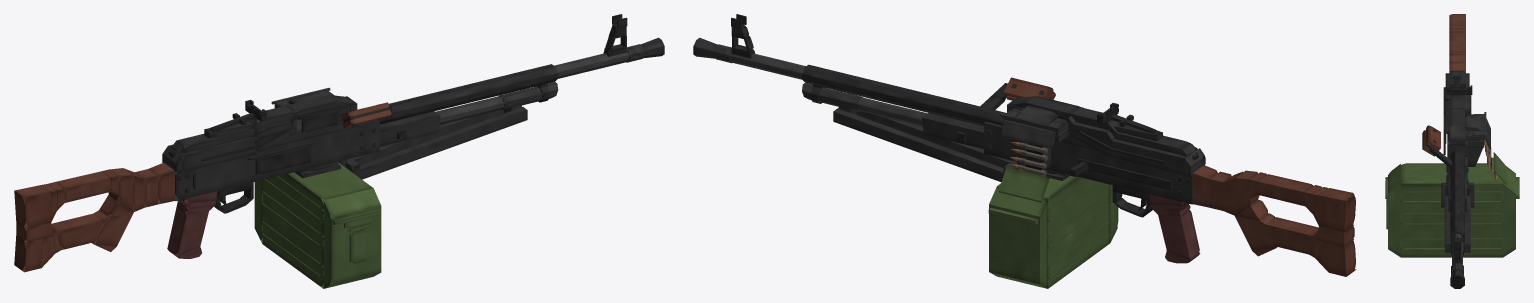
Rendered from pkm.obj.
3 views of the same model, side by side, from view 1: azimuth 30°, elevation 25°; view 2: azimuth 150°, elevation 25°; view 3: azimuth 270°, elevation 25° (orthographic). The views are drawn at different scales.
Parts seen in each view (by area): view 1: ammoModel0, gunModel0, ammoModel1, gunModel110, gunModel23, gunModel57, gunModel85, gunModel1, gunModel36, gunModel112, gunModel61, gunModel54 (+20 smaller); view 2: ammoModel2, ammoModel0, gunModel0, gunModel112, gunModel23, gunModel85, gunModel57, gunModel110, gunModel1, gunModel36, gunModel61, ammoModel147 (+20 smaller); view 3: ammoModel0, gunModel23, ammoModel1, ammoModel2, gunModel6, gunModel110, gunModel54, gunModel112, gunModel119, ammoModel147, gunModel42, gunModel12 (+30 smaller).
Part boxes in pixels (x1=…): ammoModel0: x1=262, y1=162, x2=373, y2=288; gunModel0: x1=175, y1=120, x2=379, y2=201; ammoModel1: x1=323, y1=188, x2=381, y2=288; gunModel110: x1=351, y1=107, x2=527, y2=179; gunModel23: x1=388, y1=64, x2=557, y2=113; gunModel57: x1=14, y1=185, x2=51, y2=228; gunModel85: x1=167, y1=205, x2=208, y2=255; gunModel1: x1=168, y1=137, x2=257, y2=172; gunModel36: x1=379, y1=111, x2=440, y2=146; gunModel112: x1=339, y1=110, x2=503, y2=165; gunModel61: x1=51, y1=213, x2=102, y2=250; gunModel54: x1=55, y1=171, x2=110, y2=202; ammoModel2: x1=989, y1=186, x2=1047, y2=288; ammoModel0: x1=997, y1=169, x2=1110, y2=288; gunModel0: x1=984, y1=122, x2=1192, y2=204; gunModel112: x1=833, y1=108, x2=1003, y2=181; gunModel23: x1=802, y1=64, x2=1006, y2=122; gunModel85: x1=1158, y1=209, x2=1199, y2=260; gunModel57: x1=1319, y1=188, x2=1355, y2=232; gunModel110: x1=857, y1=111, x2=1019, y2=169; gunModel1: x1=1108, y1=139, x2=1197, y2=174; gunModel36: x1=922, y1=113, x2=983, y2=148; gunModel61: x1=1266, y1=217, x2=1318, y2=254; ammoModel147: x1=998, y1=166, x2=1049, y2=202; ammoModel0: x1=1401, y1=163, x2=1502, y2=257; gunModel23: x1=1450, y1=150, x2=1464, y2=236; ammoModel1: x1=1388, y1=164, x2=1400, y2=257; ammoModel2: x1=1503, y1=166, x2=1515, y2=257; gunModel6: x1=1450, y1=108, x2=1464, y2=137; gunModel110: x1=1444, y1=192, x2=1450, y2=252; gunModel54: x1=1449, y1=31, x2=1465, y2=51; gunModel112: x1=1464, y1=192, x2=1470, y2=252; gunModel119: x1=1426, y1=125, x2=1440, y2=151; ammoModel147: x1=1493, y1=152, x2=1506, y2=184; gunModel42: x1=1467, y1=138, x2=1484, y2=166; gunModel12: x1=1465, y1=115, x2=1481, y2=130.
Bounding box in the file's own units: 33.3 × 8.25 × 7.25.
